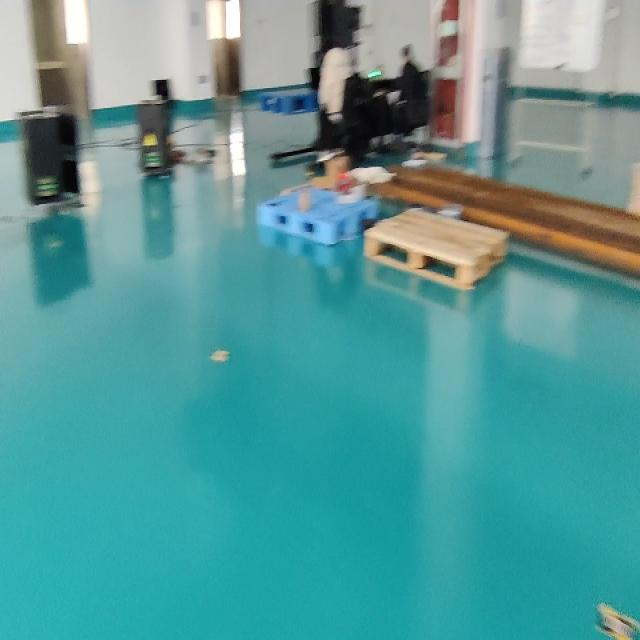euro: (365, 208, 513, 291)
